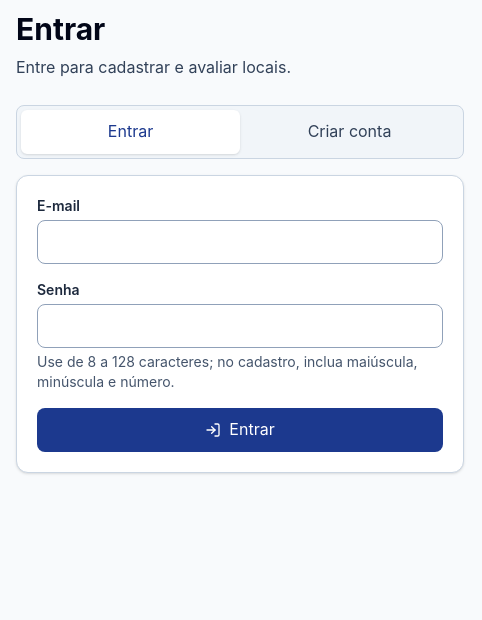
Scenario: Login › valida a política de senha no cadastro
Click the button "Criar conta" at (350, 132), box x1=240 y1=110 x2=459 y2=154
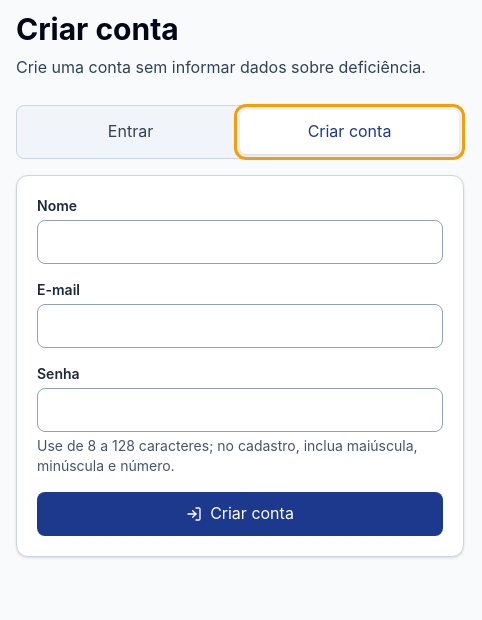
Type "Ana" into the field labelled "Nome" at (240, 242), box x1=37 y1=220 x2=443 y2=264
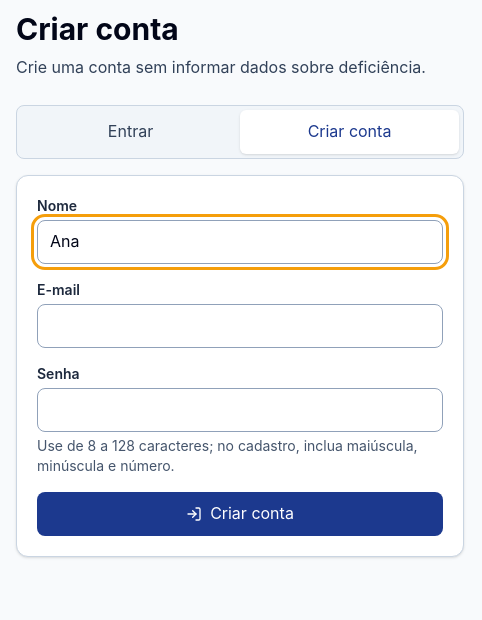
Type "ana@example.test" into the field labelled "E-mail" at (240, 326), box x1=37 y1=304 x2=443 y2=348
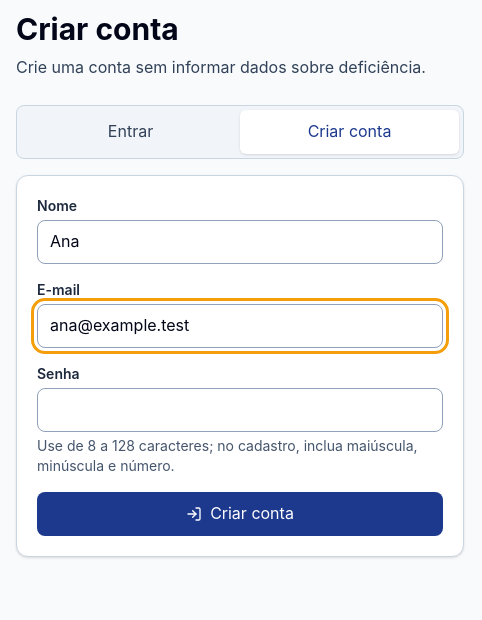
Type "abcdefgh" into the password field labelled "Senha" at (240, 410), box x1=37 y1=388 x2=443 y2=432
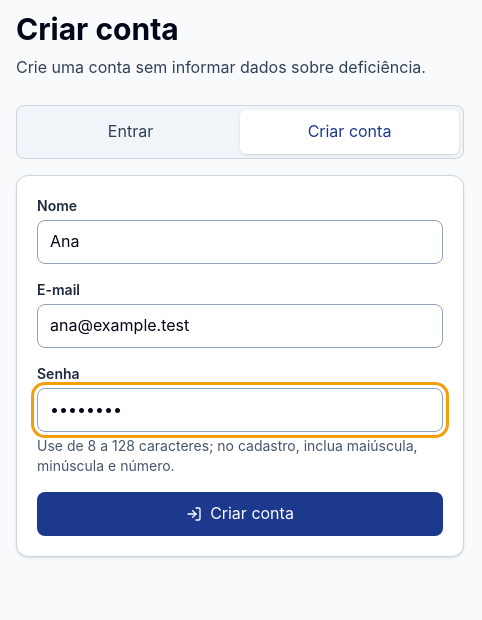
Click the button "Criar conta" below "Senha" at (240, 514), box x1=37 y1=492 x2=443 y2=536
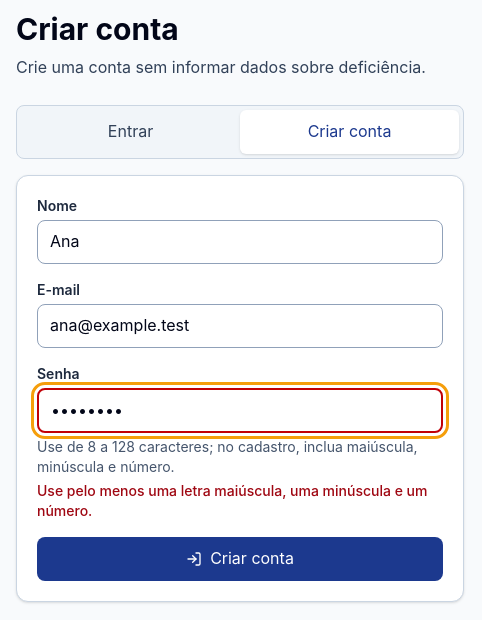
Expected: the text "maiúscula, uma minúscula e um número" is shown, x1=37 y1=482 x2=428 y2=519
